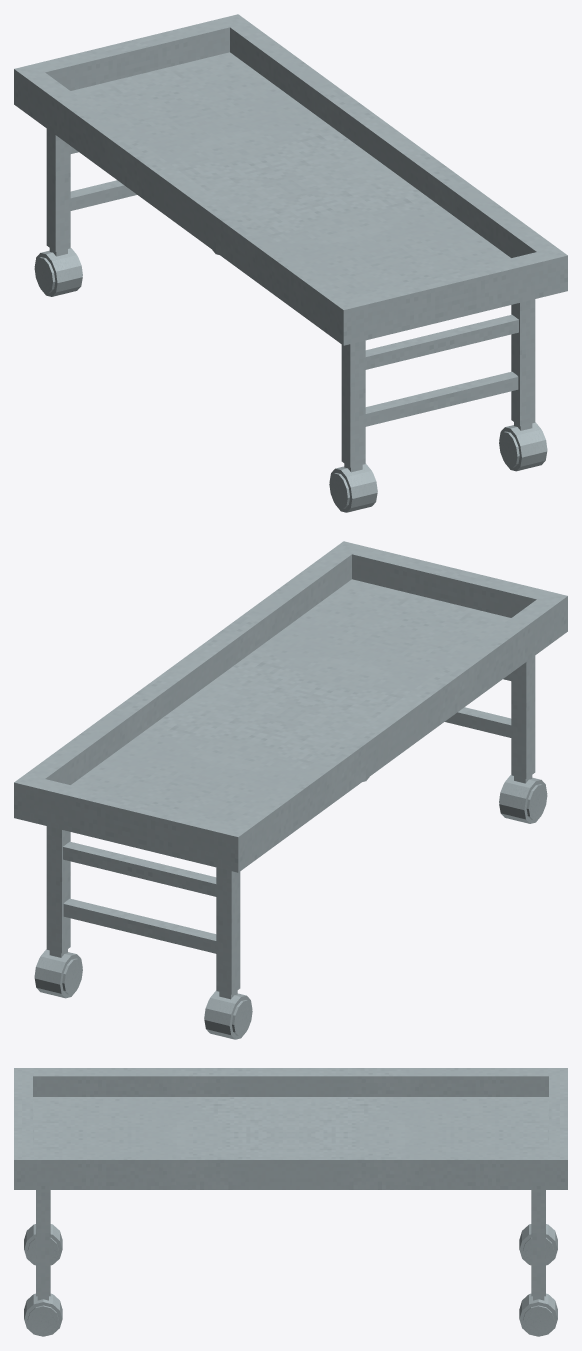
Rendered from HospitalTray.fbx.
3 renders of one model, top to bottom at view 1: azimuth 30°, elevation 25°; view 2: azimuth 150°, elevation 25°; view 3: azimuth 270°, elevation 25°, orthographic. The views are drawn at different scales.
Visible parts, largest first — view 1: HospitalTrayProp, Cylinder.050; view 2: HospitalTrayProp, Cylinder.050; view 3: HospitalTrayProp, Cylinder.050.
Boxes of the visible parts, x1,y1,x2,y2 form: HospitalTrayProp: (14, 14, 567, 472); Cylinder.050: (34, 248, 547, 512); HospitalTrayProp: (14, 541, 567, 999); Cylinder.050: (34, 775, 547, 1039); HospitalTrayProp: (14, 1068, 567, 1300); Cylinder.050: (24, 1224, 557, 1336).
Size of the model in its own units: 660 by 611 by 1680.
